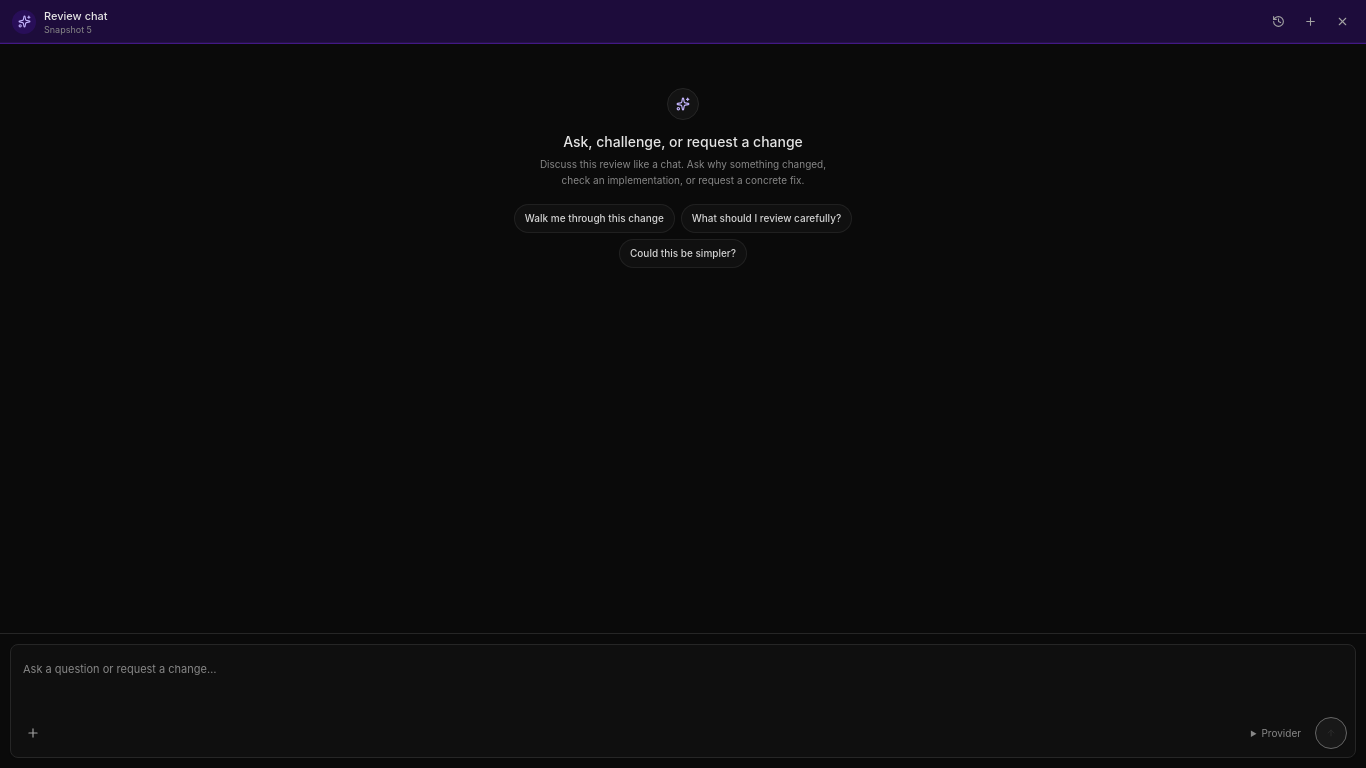
Scenario: ReviewAskDrawer › attaches changed files from @ suggestions and sends them as snapshot mentions
Step 1. Type "Explain @sess" into the text box named "Ask Review" → [683, 679], box [19, 653, 1347, 705]
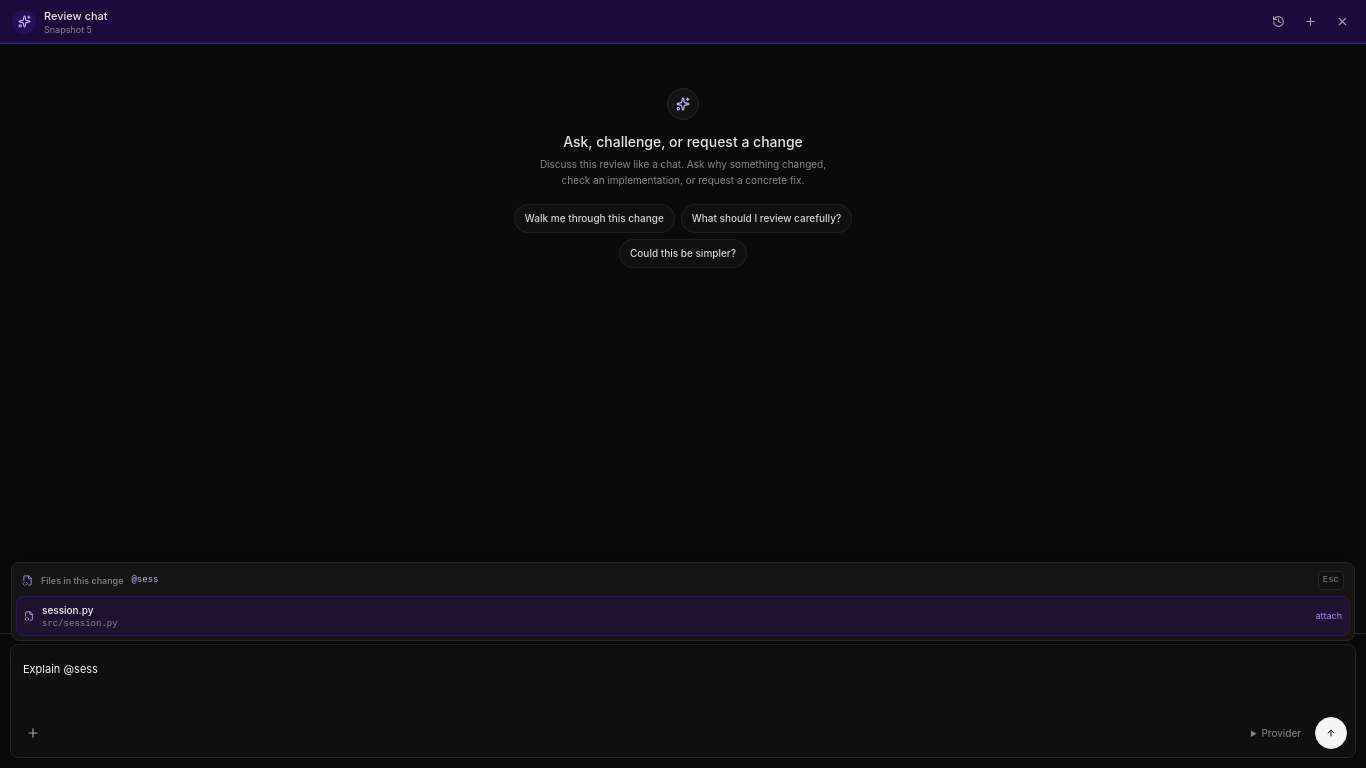
Step 2. Click the option "session.py src/session.py attach" → [68, 610], box [16, 596, 1350, 636]
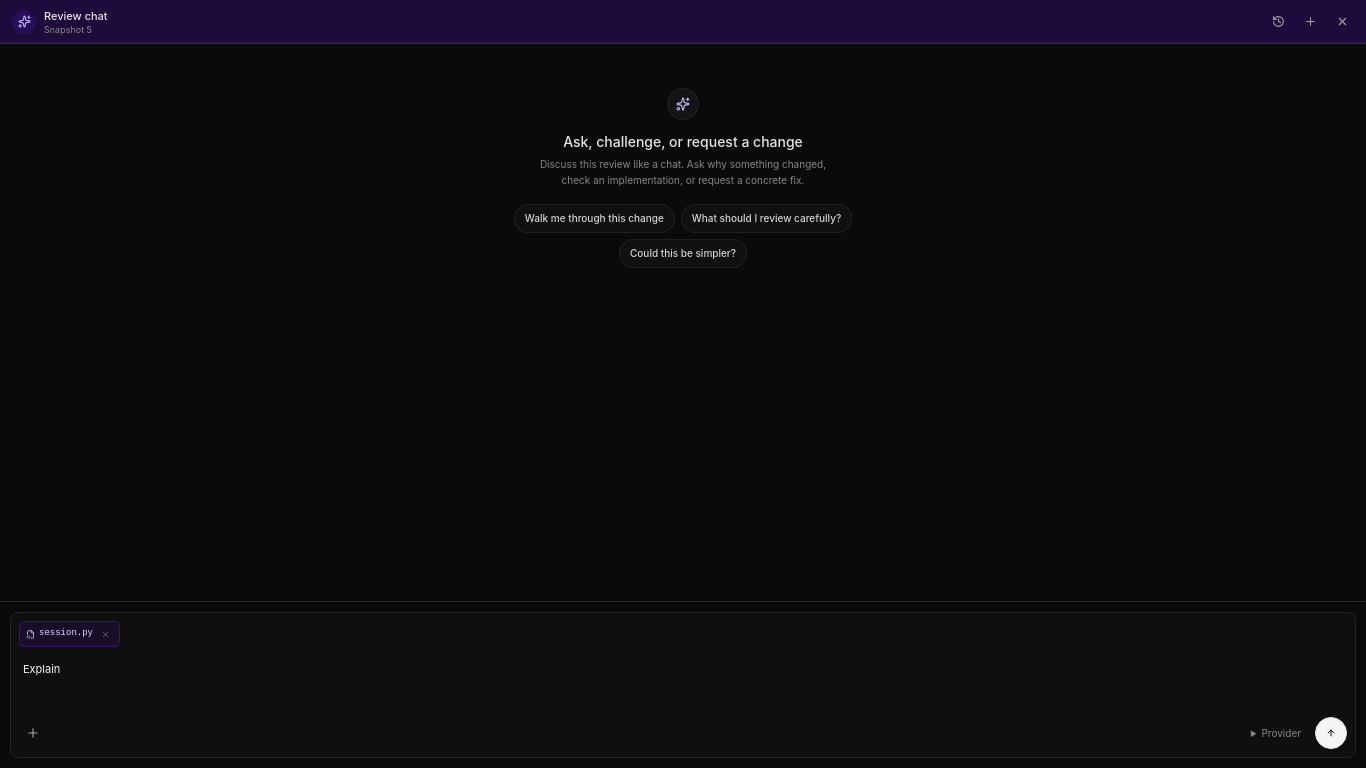
Expected: the element titled "src/session.py" is shown, [19, 621, 120, 647]
Step 3. Replace the text in the text box named "Ask Review" with "Explain this file" → [683, 679], box [19, 653, 1347, 705]
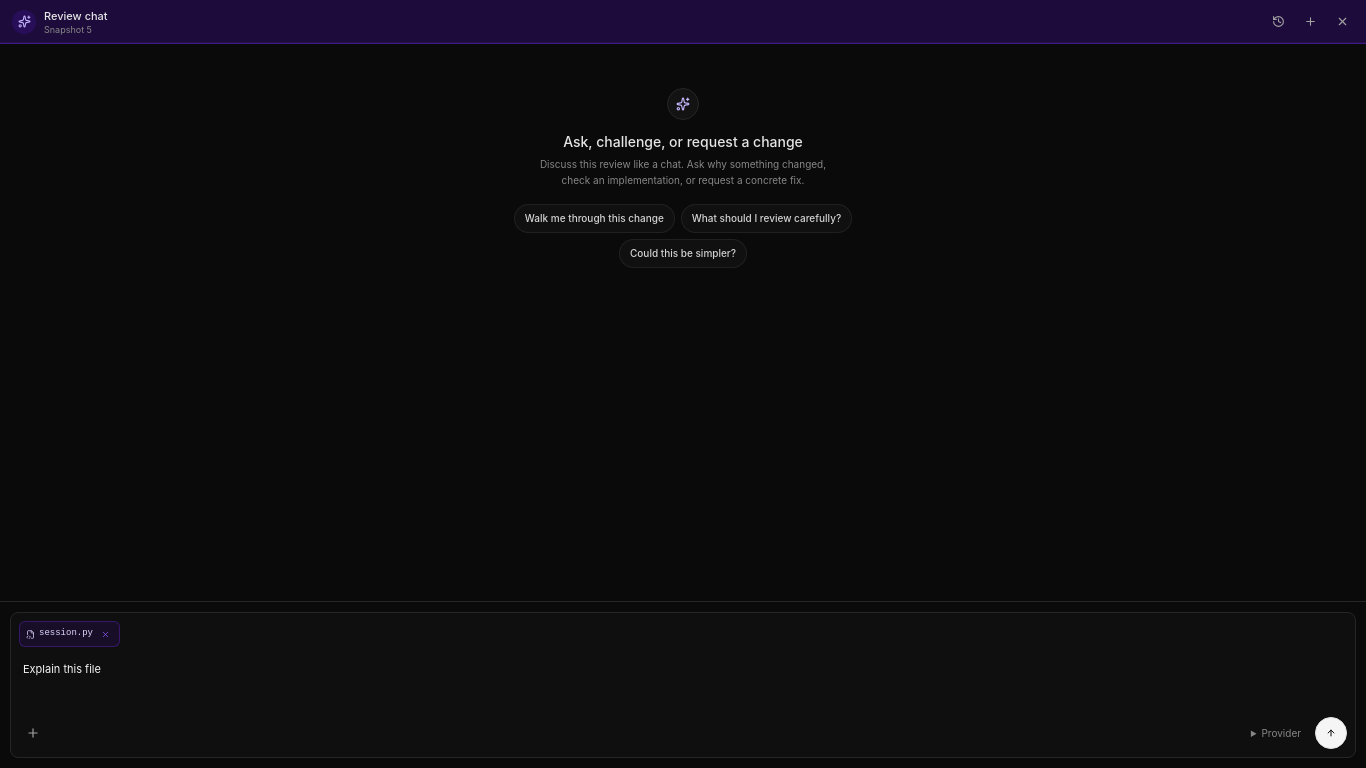
Step 4. Click the button named "Send Ask question" → [1331, 733], box [1315, 717, 1347, 749]
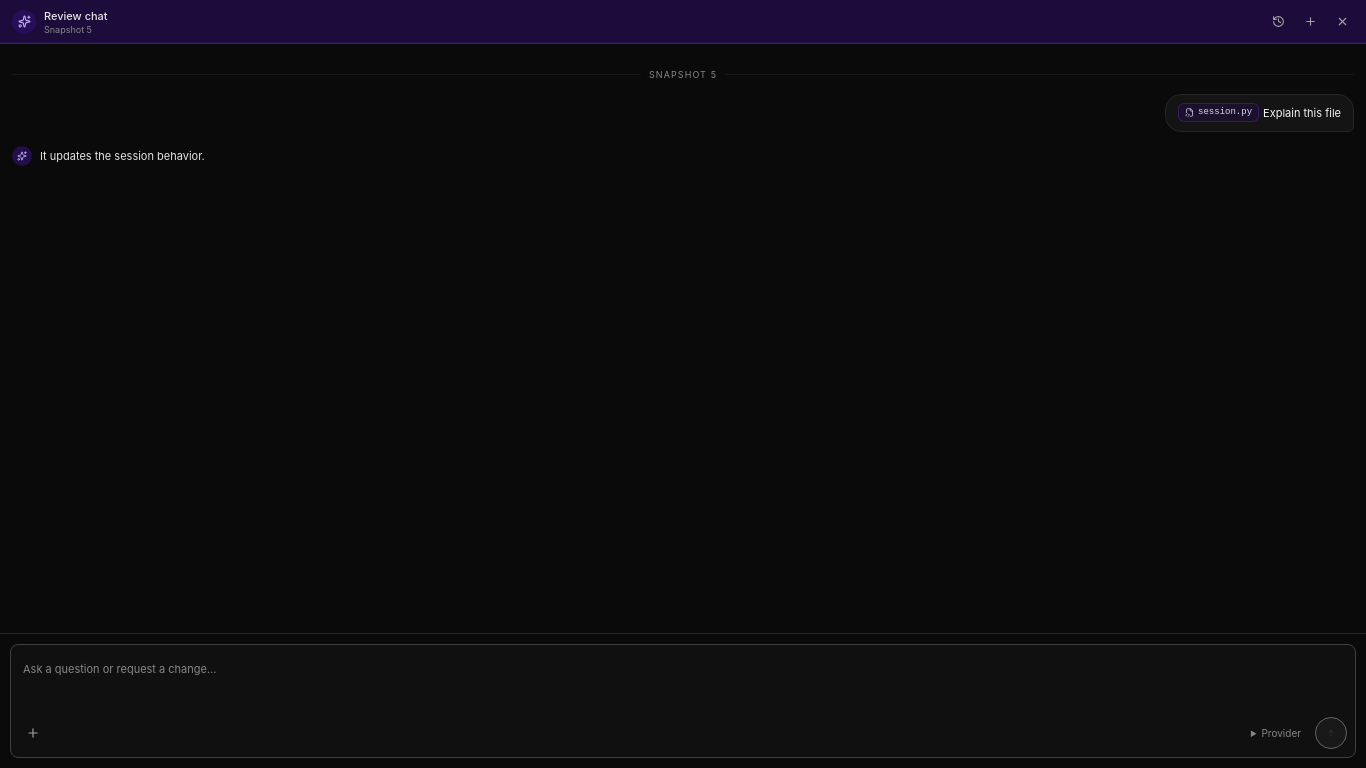
Expected: the text "It updates the session behavior." is shown, [40, 148, 205, 162]
